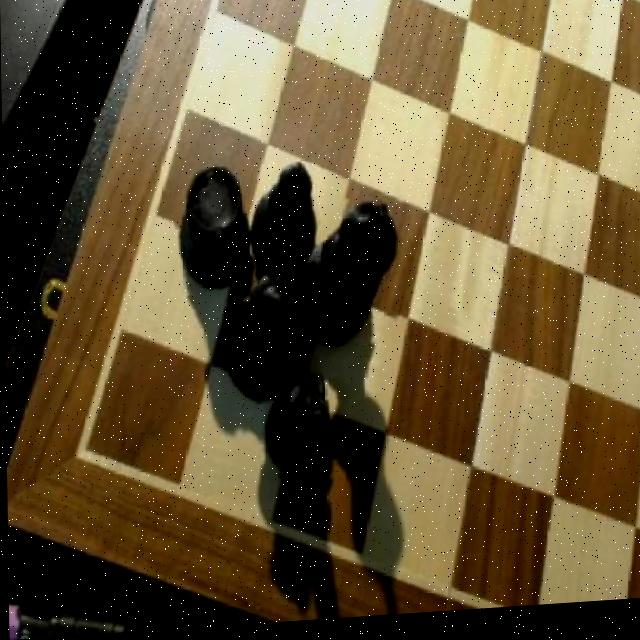bishop: (247, 165, 320, 275)
black-bishop: (299, 199, 401, 352)
black-king: (258, 366, 337, 486)
black-pawn: (217, 273, 306, 408)
black-queen: (171, 159, 250, 298)
